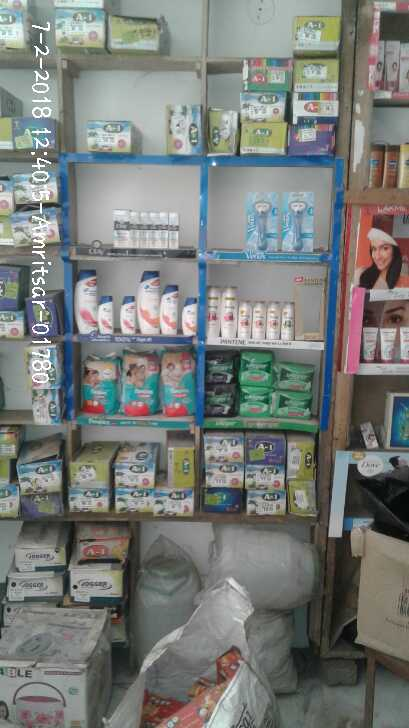venus: (281, 193, 314, 250), (245, 190, 275, 251)
